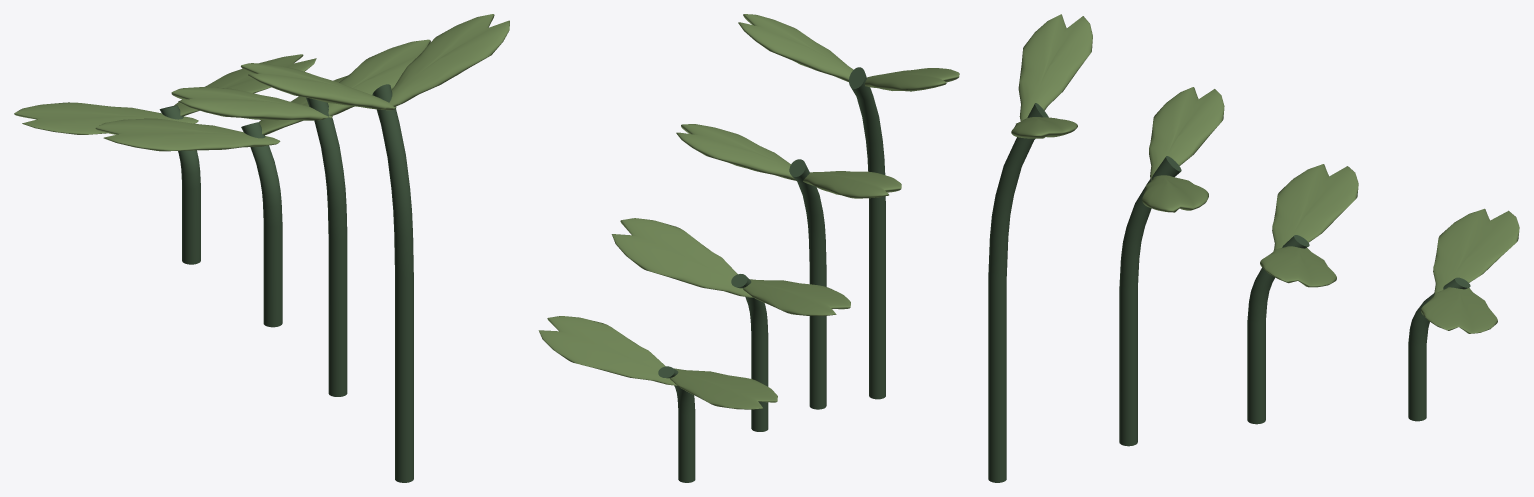
Rendered from Sprout-Steps-model.fbx.
3 renders of one model, left to right at view 1: azimuth 30°, elevation 25°; view 2: azimuth 150°, elevation 25°; view 3: azimuth 270°, elevation 25°, orthographic. The views are drawn at different scales.
Parts seen in each view (by area): view 1: pasted__pCylinder1 (×2), pasted__pasted__pasted__pasted__pSphere2 (×3), pasted__pasted__pCylinder1, pasted__pasted__pasted__pasted__pasted__pSphere2 (×3), pasted__pasted__pasted__pasted__pasted__pasted__pSphere2, pasted__pasted__pasted__pSphere2, pCylinder1; view 2: pasted__pasted__pasted__pasted__pasted__pSphere2 (×3), pasted__pasted__pasted__pasted__pSphere2 (×3), pasted__pCylinder1 (×2), pasted__pasted__pCylinder1, pasted__pasted__pasted__pasted__pasted__pasted__pSphere2, pasted__pasted__pasted__pSphere2, pCylinder1; view 3: pasted__pasted__pasted__pasted__pSphere2 (×3), pasted__pasted__pasted__pasted__pasted__pSphere2 (×3), pasted__pCylinder1 (×2), pasted__pasted__pCylinder1, pasted__pasted__pasted__pSphere2, pCylinder1, pasted__pasted__pasted__pasted__pasted__pasted__pSphere2.
Boxes of the visible parts, x1=… form: pasted__pCylinder1 (×2): x1=241, y1=97, x2=347, y2=396; pasted__pasted__pasted__pasted__pSphere2 (×3): x1=95, y1=54, x2=332, y2=151; pasted__pasted__pCylinder1: x1=372, y1=84, x2=413, y2=482; pasted__pasted__pasted__pasted__pasted__pSphere2 (×3): x1=241, y1=39, x2=430, y2=135; pasted__pasted__pasted__pasted__pasted__pasted__pSphere2: x1=381, y1=14, x2=509, y2=109; pasted__pasted__pasted__pSphere2: x1=14, y1=102, x2=198, y2=134; pCylinder1: x1=159, y1=105, x2=200, y2=264; pasted__pasted__pasted__pasted__pasted__pSphere2 (×3): x1=611, y1=68, x2=959, y2=297; pasted__pasted__pasted__pasted__pSphere2 (×3): x1=538, y1=171, x2=901, y2=385; pasted__pCylinder1 (×2): x1=731, y1=159, x2=826, y2=431; pasted__pasted__pCylinder1: x1=849, y1=67, x2=885, y2=399; pasted__pasted__pasted__pasted__pasted__pasted__pSphere2: x1=738, y1=14, x2=853, y2=81; pasted__pasted__pasted__pSphere2: x1=670, y1=368, x2=777, y2=409; pCylinder1: x1=658, y1=366, x2=695, y2=482; pasted__pasted__pasted__pasted__pSphere2 (×3): x1=1149, y1=87, x2=1497, y2=333; pasted__pasted__pasted__pasted__pasted__pSphere2 (×3): x1=1018, y1=14, x2=1336, y2=287; pasted__pCylinder1 (×2): x1=1119, y1=156, x2=1309, y2=446; pasted__pasted__pCylinder1: x1=988, y1=103, x2=1048, y2=482; pasted__pasted__pasted__pSphere2: x1=1433, y1=208, x2=1519, y2=293; pCylinder1: x1=1408, y1=277, x2=1470, y2=421; pasted__pasted__pasted__pasted__pasted__pasted__pSphere2: x1=1011, y1=117, x2=1077, y2=138.
Bounding box in the file's own units: 2.82 × 4.02 × 4.77.
